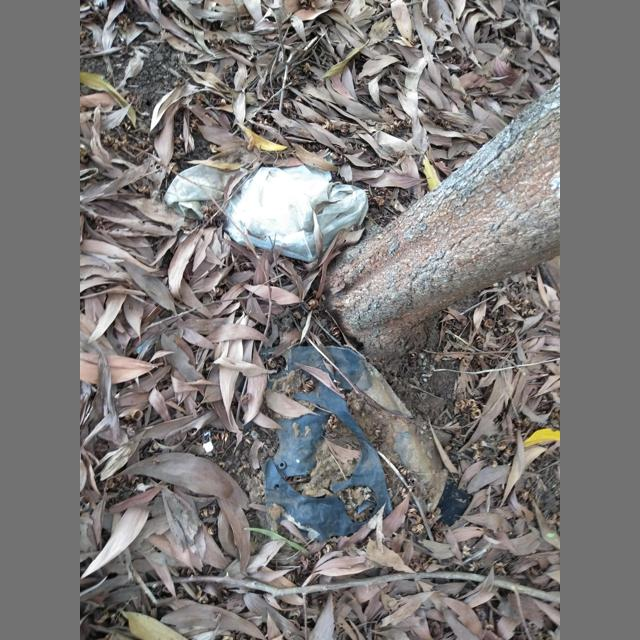litter: (260, 346, 451, 544), (224, 165, 368, 262), (162, 164, 256, 220)
